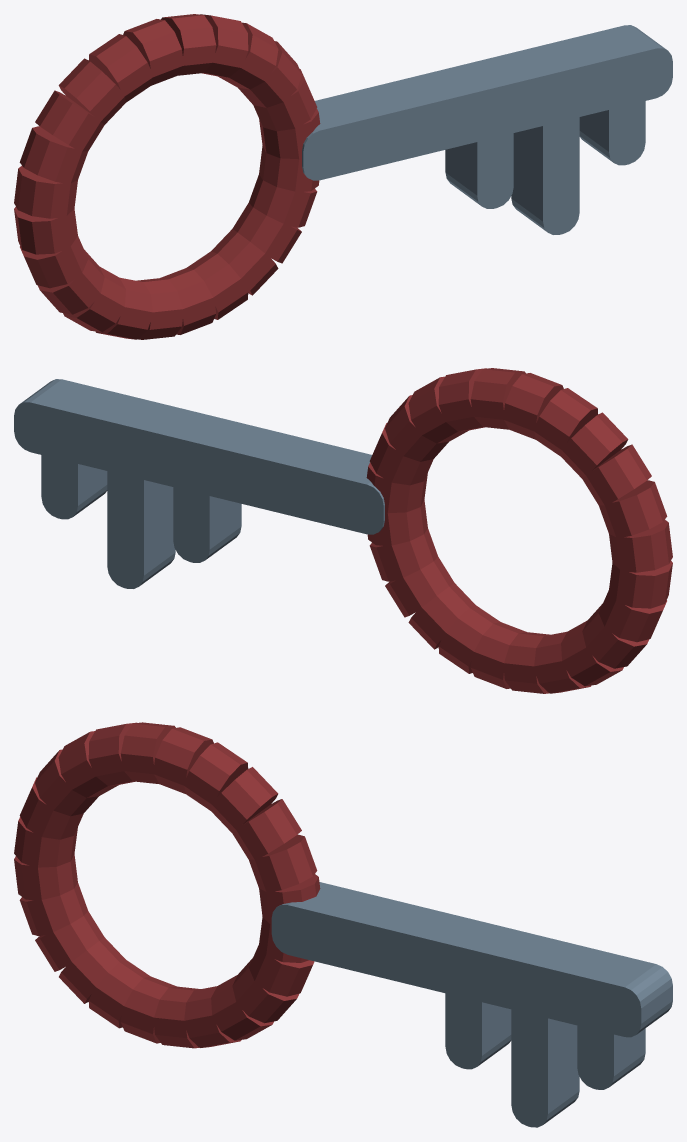
The model's file is key.glb.
The picture shows the model from 3 angles, top to bottom: view 1: azimuth 30°, elevation 25°; view 2: azimuth 150°, elevation 25°; view 3: azimuth 330°, elevation 25°; orthographic projection.
Parts seen in each view (by area): view 1: shaft, tooth 1, tooth 0, tooth 2, key ring10, key ring7, key ring8, key ring9, key ring11, key ring6, key ring12, key ring5 (+16 smaller); view 2: shaft, tooth 1, tooth 0, tooth 2, key ring10, key ring7, key ring8, key ring9, key ring11, key ring6, key ring12, key ring5 (+16 smaller); view 3: shaft, tooth 1, tooth 0, tooth 2, key ring1, key ring4, key ring3, key ring2, key ring5, key ring6, key ring14, key ring15 (+16 smaller).
Part boxes in pixels (bbox=[...]): shaft: bbox=[302, 25, 672, 180]; tooth 1: bbox=[511, 103, 579, 234]; tooth 0: bbox=[445, 119, 513, 208]; tooth 2: bbox=[579, 87, 645, 165]; key ring10: bbox=[19, 126, 88, 184]; key ring7: bbox=[88, 34, 153, 102]; key ring8: bbox=[58, 58, 125, 124]; key ring9: bbox=[35, 90, 104, 151]; key ring11: bbox=[14, 166, 77, 218]; key ring6: bbox=[123, 19, 183, 85]; key ring12: bbox=[14, 207, 77, 254]; key ring5: bbox=[161, 14, 216, 75]; shaft: bbox=[14, 379, 384, 534]; tooth 1: bbox=[107, 457, 175, 588]; tooth 0: bbox=[173, 473, 241, 562]; tooth 2: bbox=[41, 442, 107, 519]; key ring10: bbox=[598, 480, 667, 538]; key ring7: bbox=[533, 388, 598, 456]; key ring8: bbox=[561, 412, 628, 478]; key ring9: bbox=[582, 444, 651, 505]; key ring11: bbox=[609, 520, 672, 572]; key ring6: bbox=[503, 373, 563, 439]; key ring12: bbox=[609, 561, 672, 608]; key ring5: bbox=[470, 368, 525, 429]; shaft: bbox=[271, 882, 672, 1037]; tooth 1: bbox=[511, 996, 579, 1127]; tooth 0: bbox=[445, 981, 511, 1069]; tooth 2: bbox=[577, 1012, 645, 1089]; key ring1: bbox=[249, 834, 317, 891]; key ring4: bbox=[183, 742, 248, 810]; key ring3: bbox=[211, 767, 278, 833]; key ring2: bbox=[232, 799, 301, 859]; key ring5: bbox=[154, 727, 213, 793]; key ring6: bbox=[120, 722, 175, 784]; key ring14: bbox=[35, 911, 104, 971]; key ring15: bbox=[59, 937, 125, 1003].
Size of the model in its own units: 1.75 by 0.8228 by 0.15.
